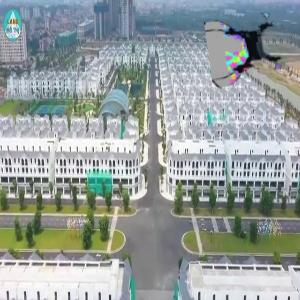drone: (209, 11, 285, 87)
